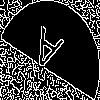A: (25, 25, 65, 82)
